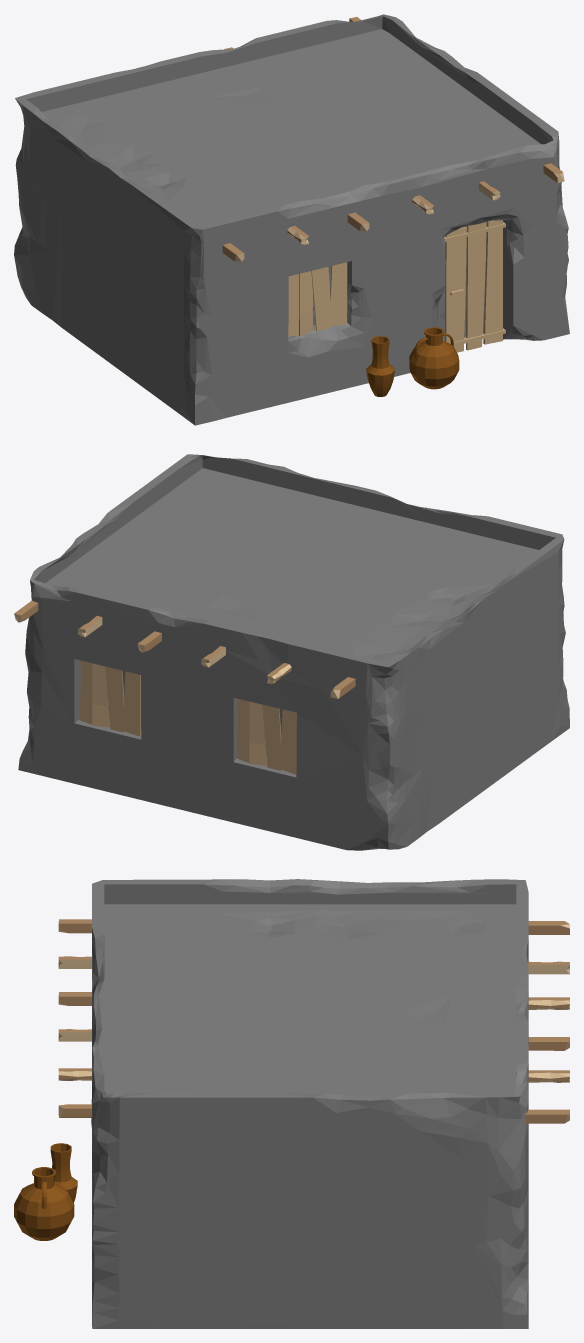
The model's file is SM_house_egypt_07.fbx.
The picture shows the model from 3 angles, top to bottom: view 1: azimuth 30°, elevation 25°; view 2: azimuth 150°, elevation 25°; view 3: azimuth 270°, elevation 25°; orthographic projection. The views are drawn at different scales.
Visible parts, largest first — view 1: Object154; view 2: Object154; view 3: Object154.
Part boxes in pixels (box(x1,y1,x2,y2)): Object154: box(14, 14, 569, 425); Object154: box(14, 454, 569, 850); Object154: box(14, 879, 569, 1328).
Bounding box in the file's own units: 259 × 278 × 129.
